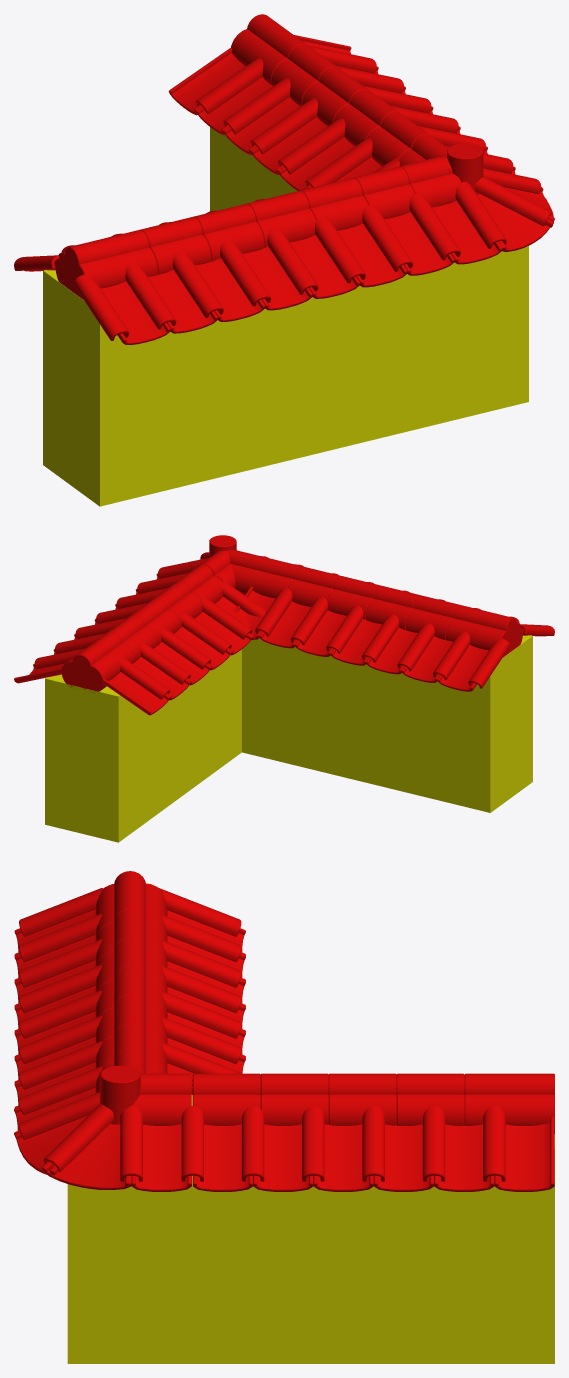
Rendered from Hanok_Corner_Wall.fbx.
3 renders of one model, top to bottom at view 1: azimuth 30°, elevation 25°; view 2: azimuth 150°, elevation 25°; view 3: azimuth 270°, elevation 25°, orthographic. The views are drawn at different scales.
Visible parts, largest first — view 1: Hanok_Corner_Wall; view 2: Hanok_Corner_Wall; view 3: Hanok_Corner_Wall.
Part boxes in pixels (x1,y1,x2,y2): Hanok_Corner_Wall: (14,14,554,506); Hanok_Corner_Wall: (14,535,554,842); Hanok_Corner_Wall: (14,871,554,1363).
Size of the model in its own units: 328 by 159 by 291.
